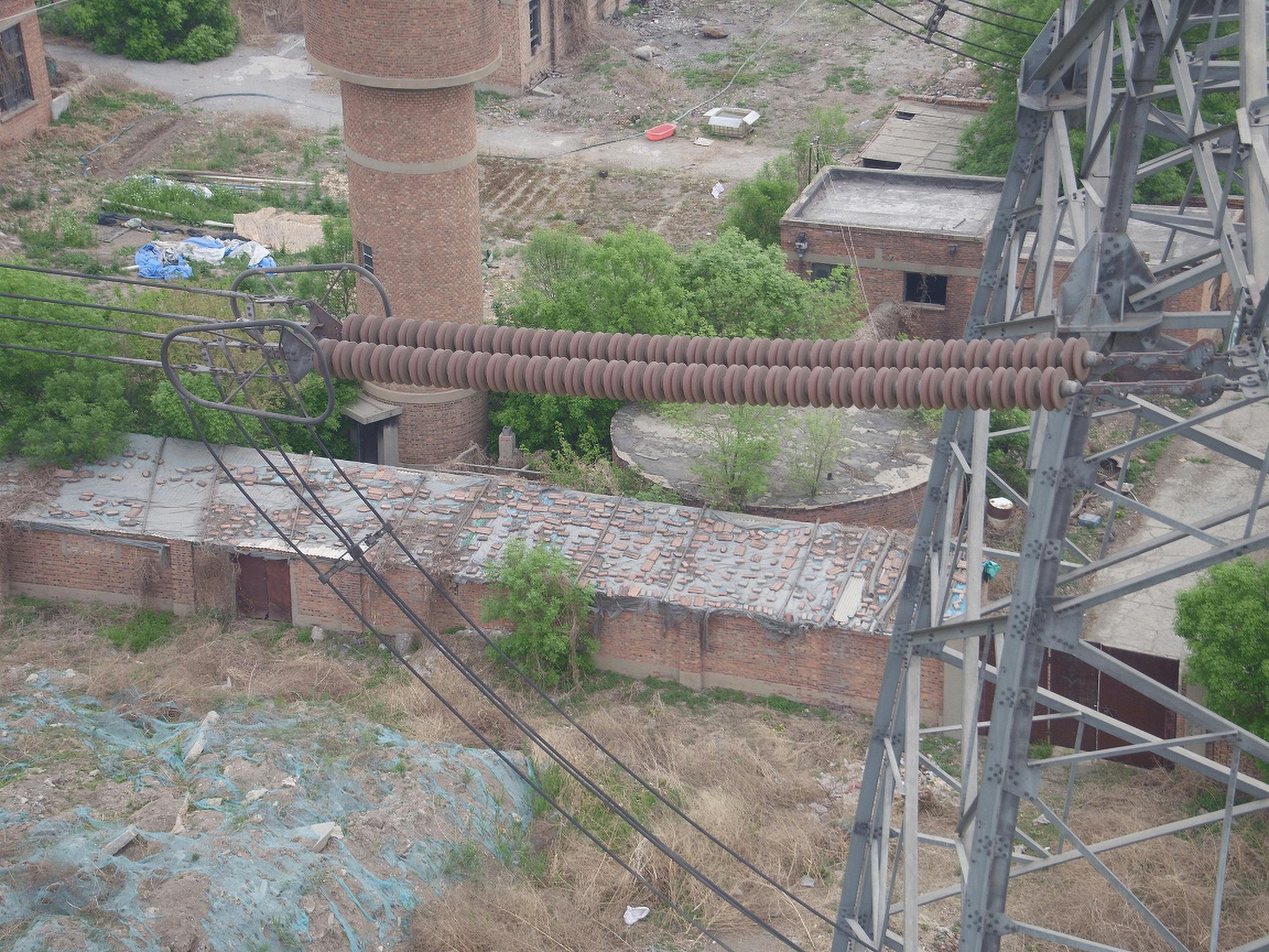insulator: (307, 309, 1094, 415)
